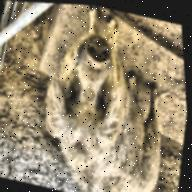boar: (7, 11, 192, 192)
